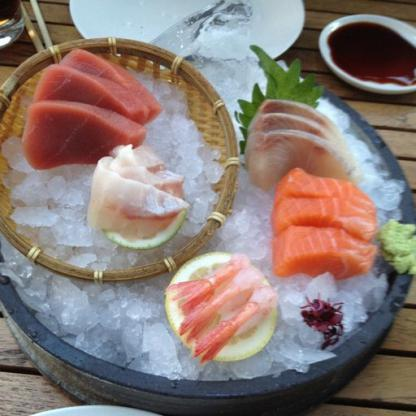salmon: (267, 173, 381, 273)
shrimp: (194, 283, 275, 361), (183, 275, 264, 338), (171, 254, 247, 313)
tuna: (24, 48, 162, 172)
